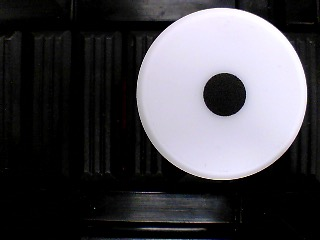BOHO: (136, 7, 308, 181)
